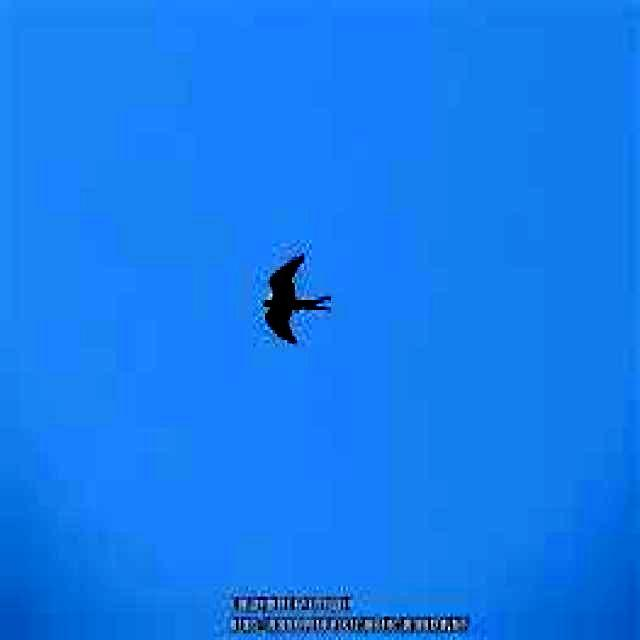bird: (260, 246, 333, 349)
